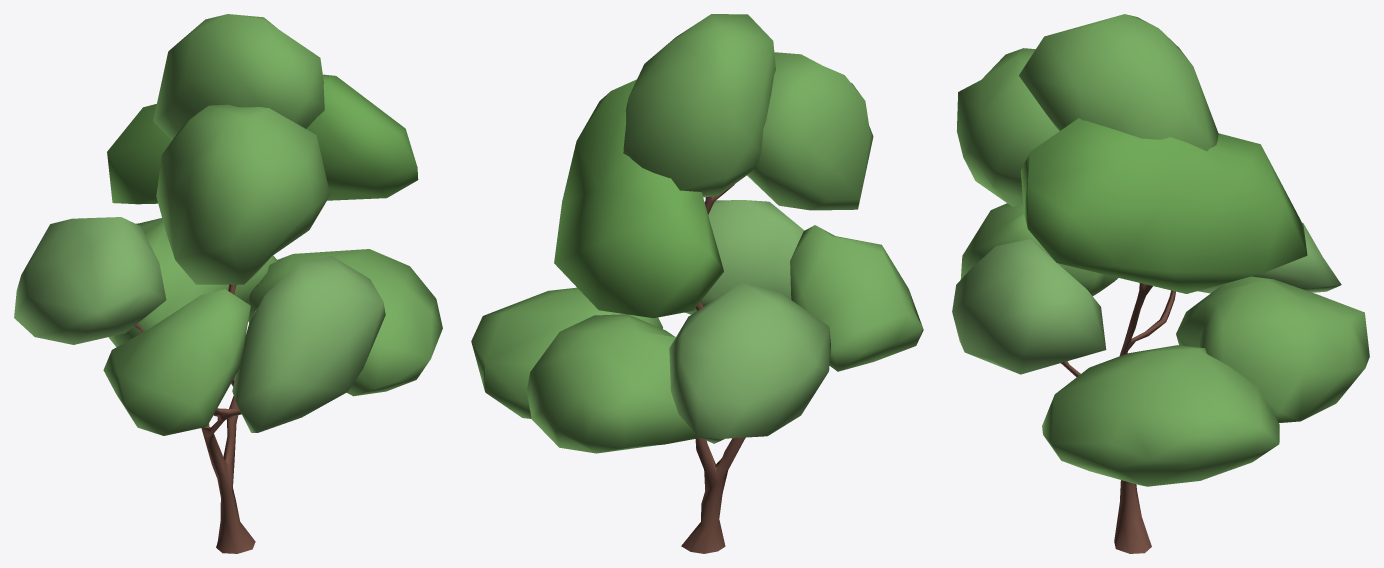
Rendered from sn_tree_big.glb.
The picture shows the model from 3 angles, left to right: view 1: azimuth 30°, elevation 25°; view 2: azimuth 150°, elevation 25°; view 3: azimuth 270°, elevation 25°; orthographic projection. The views are drawn at different scales.
Visible parts, largest first — view 1: sn_tree_big; view 2: sn_tree_big; view 3: sn_tree_big.
Part boxes in pixels (x1,y1,x2,y2): sn_tree_big: [14, 14, 442, 553]; sn_tree_big: [471, 14, 923, 553]; sn_tree_big: [952, 14, 1369, 553].
Size of the model in its own units: 6.64 by 9 by 6.49.
